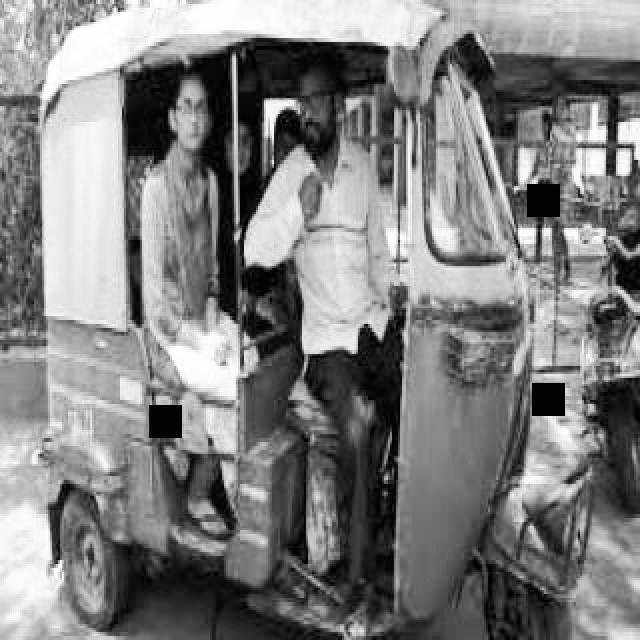Auto-Rickshaw: (28, 12, 590, 638)
